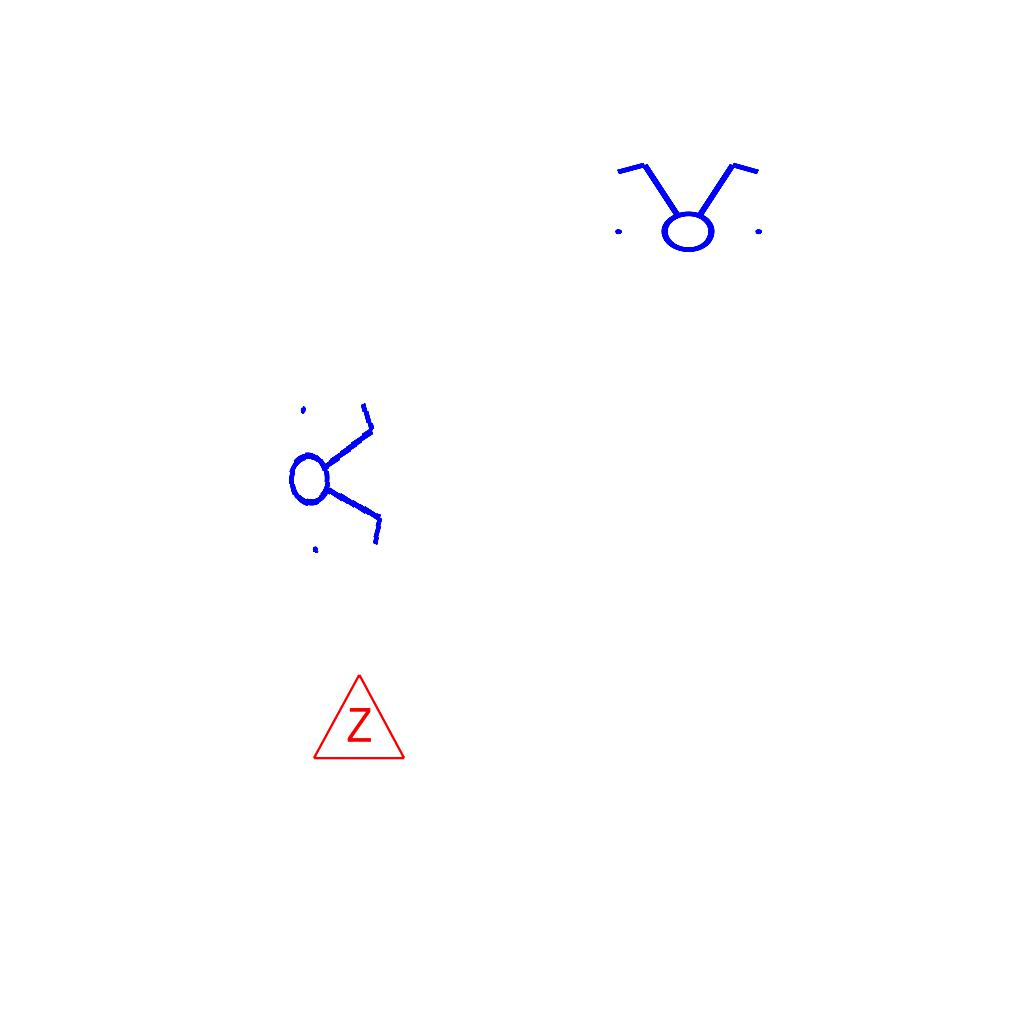Serienschalter: (279, 388, 391, 564), (603, 158, 771, 254)
Zimmersignalleuchte: (309, 667, 407, 767)
